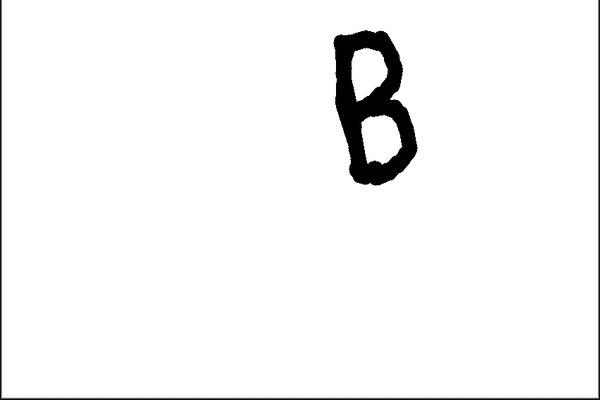B: (323, 18, 423, 190)
